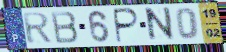0: (174, 7, 201, 42)
6: (87, 9, 111, 44)
B: (49, 10, 81, 45)
N: (145, 6, 176, 44)
P: (113, 7, 141, 45)
R: (21, 11, 54, 45)
